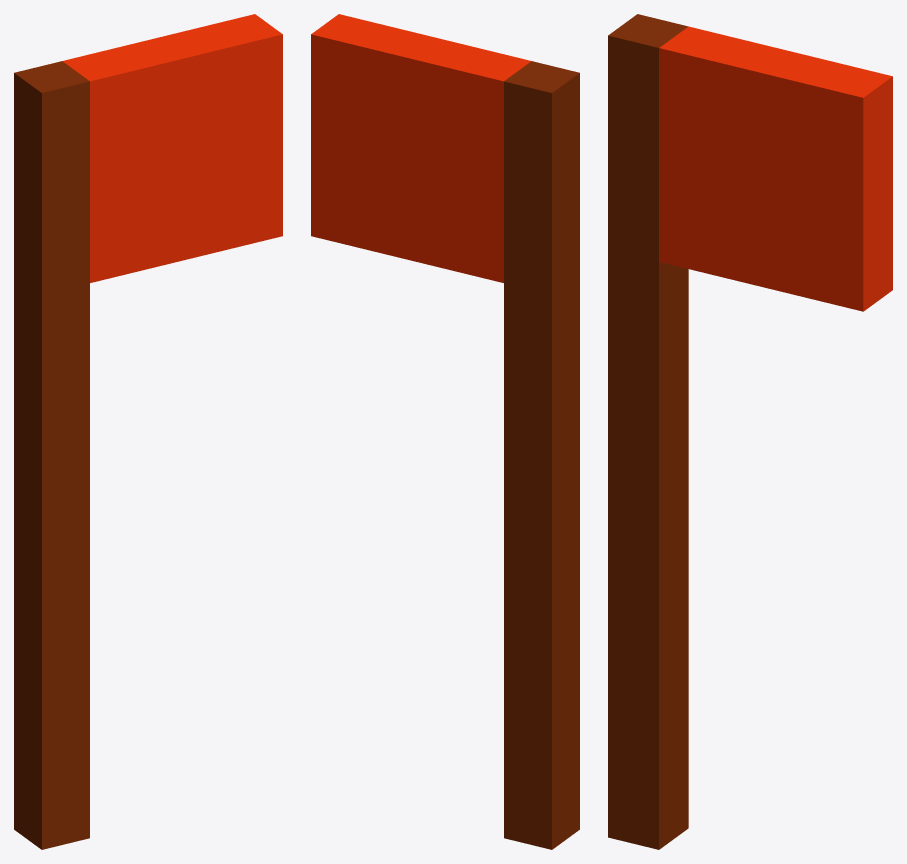
Rendered from Finish Flag.obj.
The picture shows the model from 3 angles, left to right: view 1: azimuth 30°, elevation 25°; view 2: azimuth 150°, elevation 25°; view 3: azimuth 330°, elevation 25°; orthographic projection. The views are drawn at different scales.
Visible parts, largest first — view 1: Finish Flag; view 2: Finish Flag; view 3: Finish Flag.
Part boxes in pixels (box(x1,y1,x2,y2)): Finish Flag: box(14, 14, 282, 849); Finish Flag: box(311, 14, 579, 849); Finish Flag: box(608, 14, 892, 849).
Bounding box in the file's own units: 5 × 15 × 1.
Materials: 1 (1 with a texture image).
